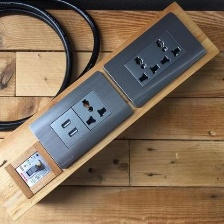three_eye_plug: (25, 68, 136, 170), (101, 8, 209, 106)
